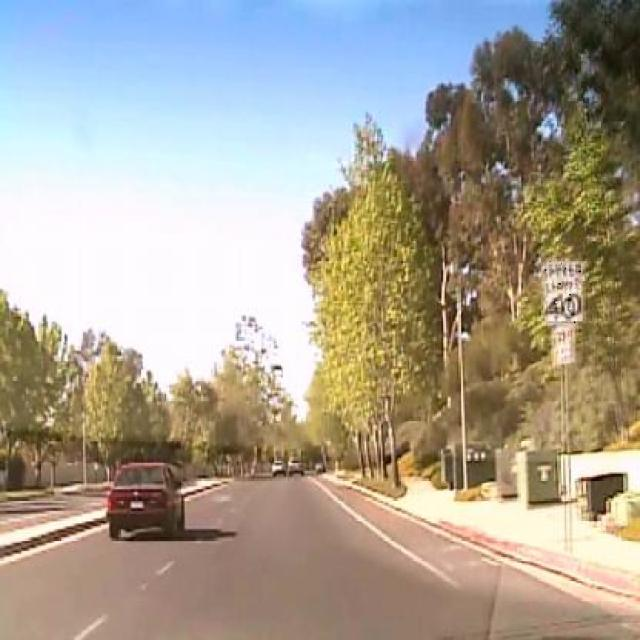speedLimit40: (543, 258, 584, 326)
